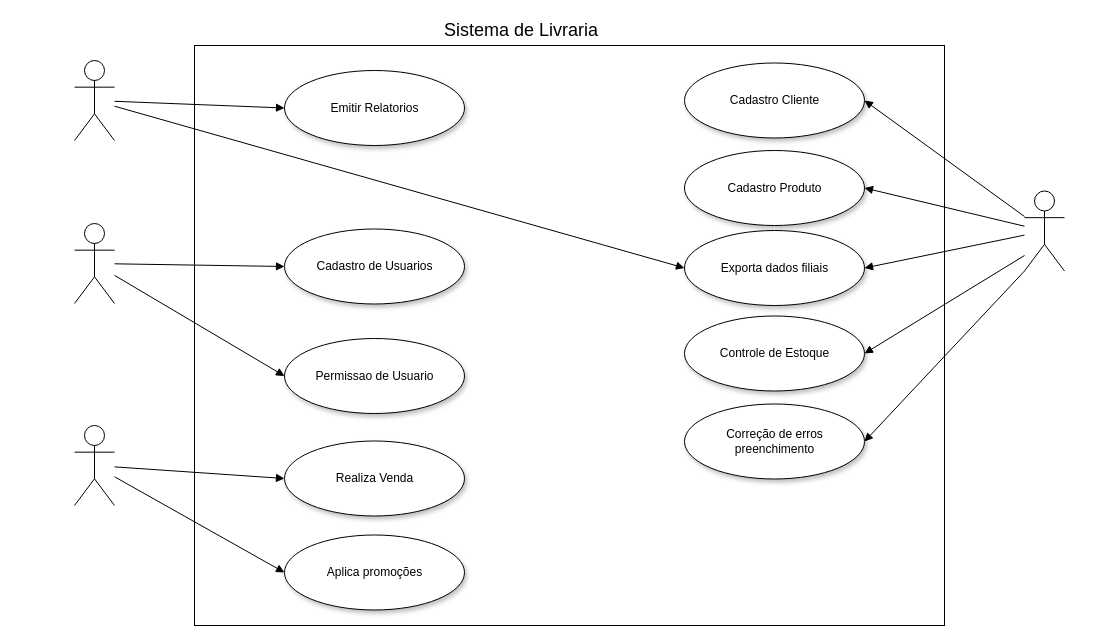
Image size: 1113x643. Some labels were removed from this diagram. The shapes that lost their labels are listed below. From the top down, each one's centre as x and y in pixels, then its label:
pixel 94 100: Gerencias
pixel 1044 230: BackOffices
pixel 94 263: Equipe de TI
pixel 94 465: Equipe de Vendas
